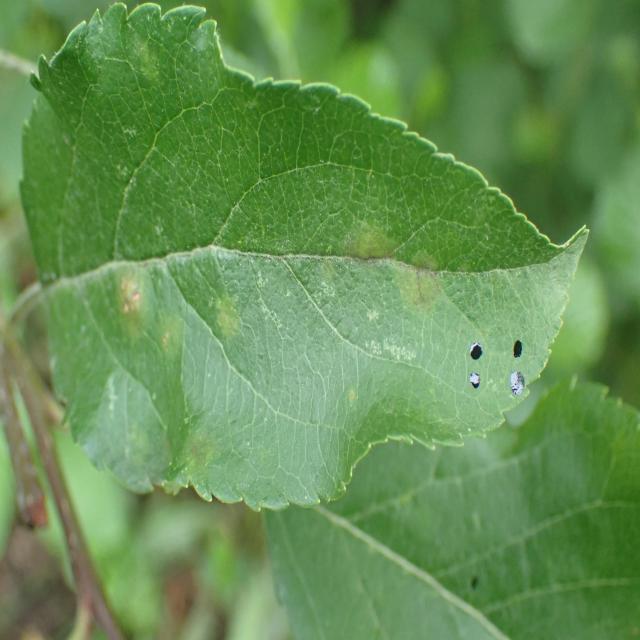scab: (49, 41, 477, 477)
